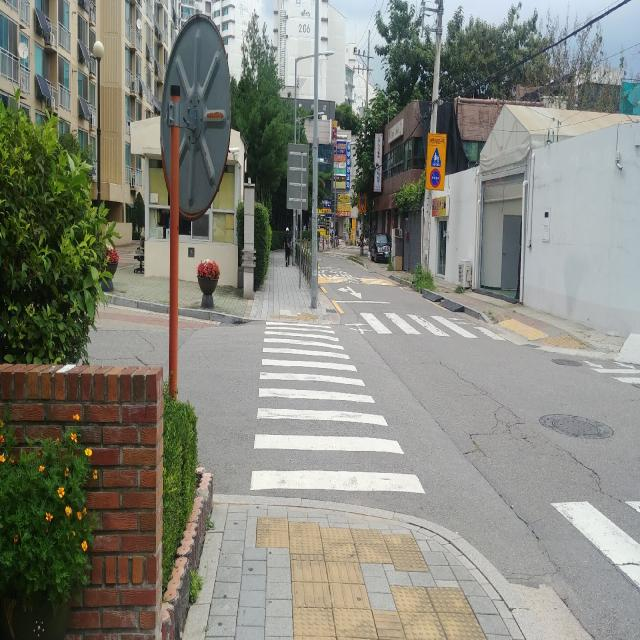횡단보도: (249, 319, 427, 499), (349, 296, 499, 337)
